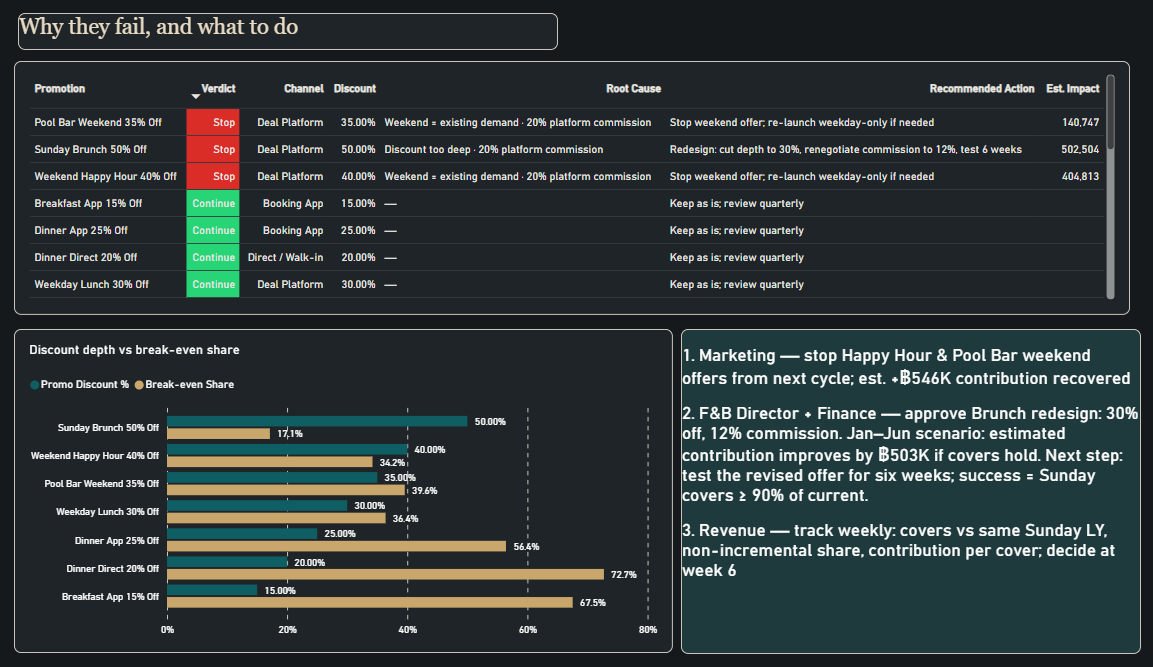

Layout of this report page (visuals, bound fields, positions):
{"tool":"powerbi","page":{"name":"Diagnosis & Action Plan","canvas":[1300,980],"ordinal":2},"visuals":[{"type":"textbox","box":[24,24,600,41],"z":0},{"type":"tableEx","fields":{"Values":["DimPromo.PromoName","Promo decision.Promo Verdict","vw_promo_uplift.ChannelName","Sum(DimPromo.DiscountPct)","_Measures.Root Cause","_Measures.Recommended Action","_Measures.Est. Impact"]},"box":[20.6,75,1252.2,347.2],"z":1000},{"type":"clusteredBarChart","title":"Discount depth vs break-even share","fields":{"Category":["DimPromo.PromoName"],"Y":["Promo decision.Promo Discount %","Promo decision.Break-even Share"]},"box":[20.6,438,732,360],"z":2000},{"type":"textbox","box":[762.2,438,510.6,360.5],"z":2001}]}

Visuals, with their boxes on the page's 1300x980 design canvas (x1, y1, x2, y2). These are canvas units, not pixel positions in the 1153x667 screenshot, which may show the page scaled, cropped or inside an application window:
textbox: 24,24,624,65
tableEx - DimPromo.PromoName x Promo decision.Promo Verdict: 21,75,1273,422
"Discount depth vs break-even share" clusteredBarChart: 21,438,753,798
textbox: 762,438,1273,798
